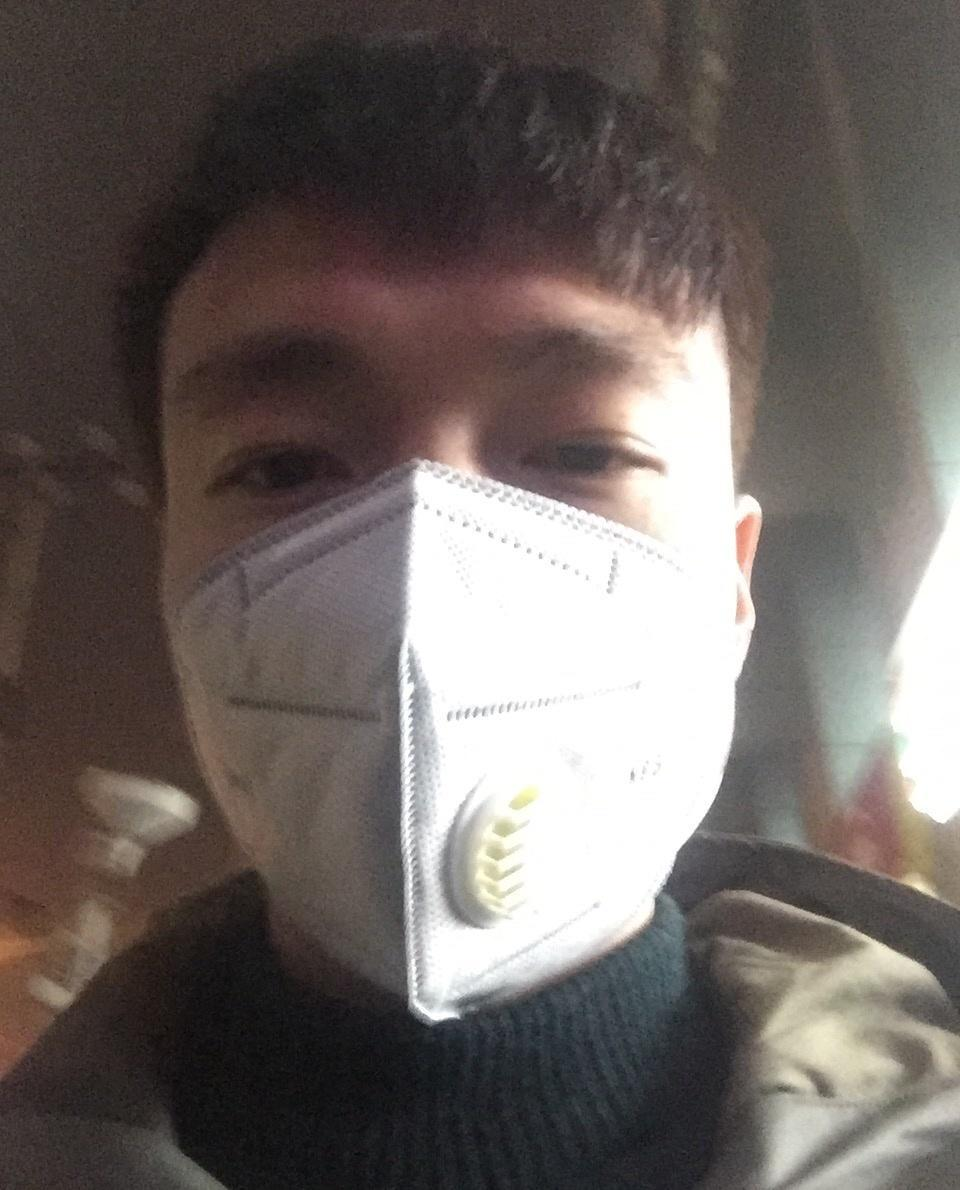OK: (132, 317, 788, 973)
